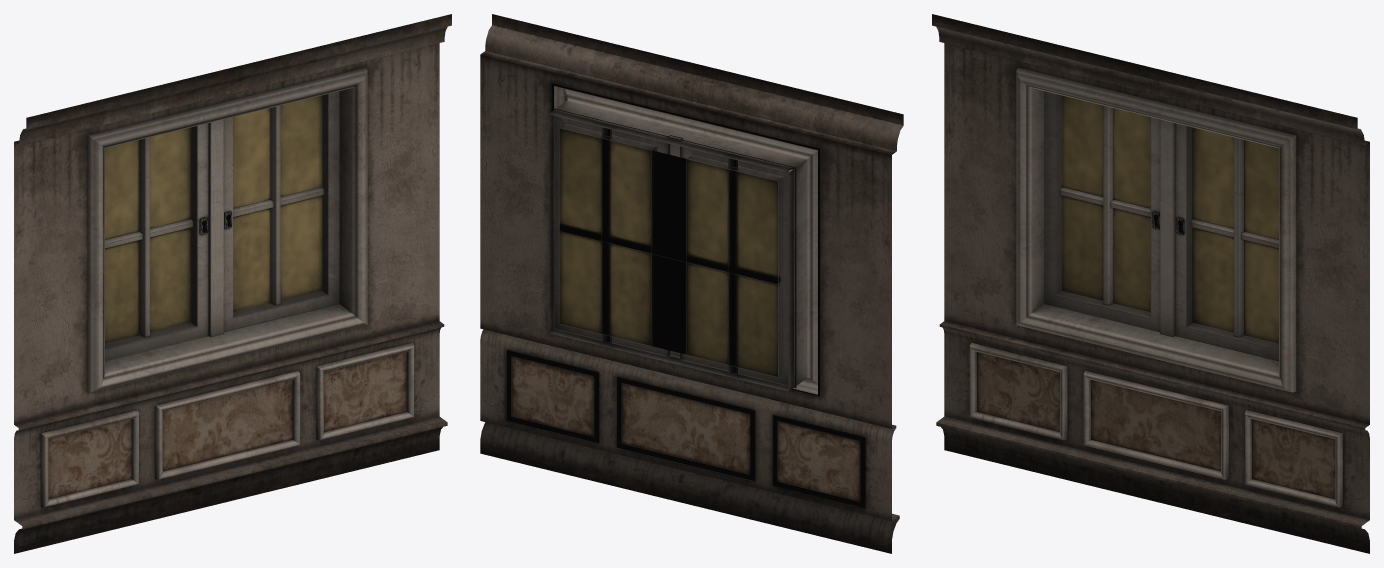
The model's file is 42_window_yellow.dae.
The picture shows the model from 3 angles, left to right: view 1: azimuth 30°, elevation 25°; view 2: azimuth 150°, elevation 25°; view 3: azimuth 330°, elevation 25°; orthographic projection. The views are drawn at different scales.
Visible parts, largest first — view 1: mansionbase_wall_window1, mansionbase_wall_windowglass; view 2: mansionbase_wall_window1, mansionbase_wall_windowglass; view 3: mansionbase_wall_window1, mansionbase_wall_windowglass.
Boxes of the visible parts, box(x1,y1,x2,y2) form: mansionbase_wall_window1: box(14, 14, 451, 553); mansionbase_wall_windowglass: box(105, 95, 322, 343); mansionbase_wall_window1: box(480, 14, 903, 553); mansionbase_wall_windowglass: box(560, 128, 777, 376); mansionbase_wall_window1: box(932, 14, 1369, 553); mansionbase_wall_windowglass: box(1061, 95, 1278, 343).
Size of the model in its own units: 4 by 4 by 0.4944.
